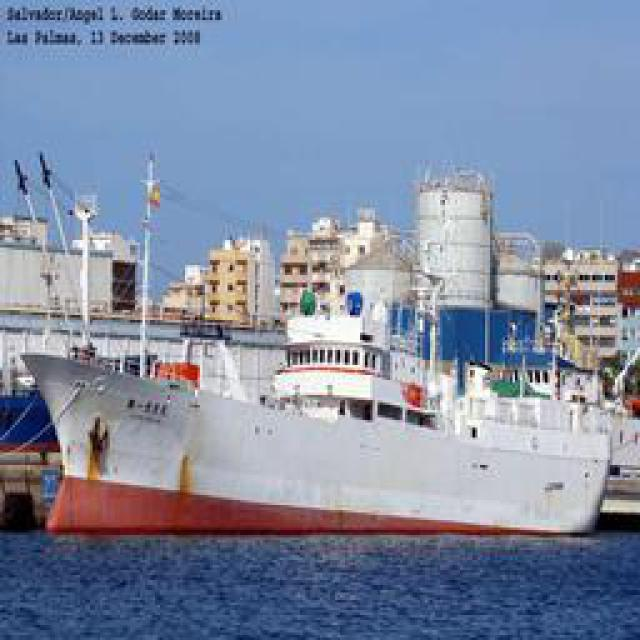Ship: (16, 280, 621, 550)
